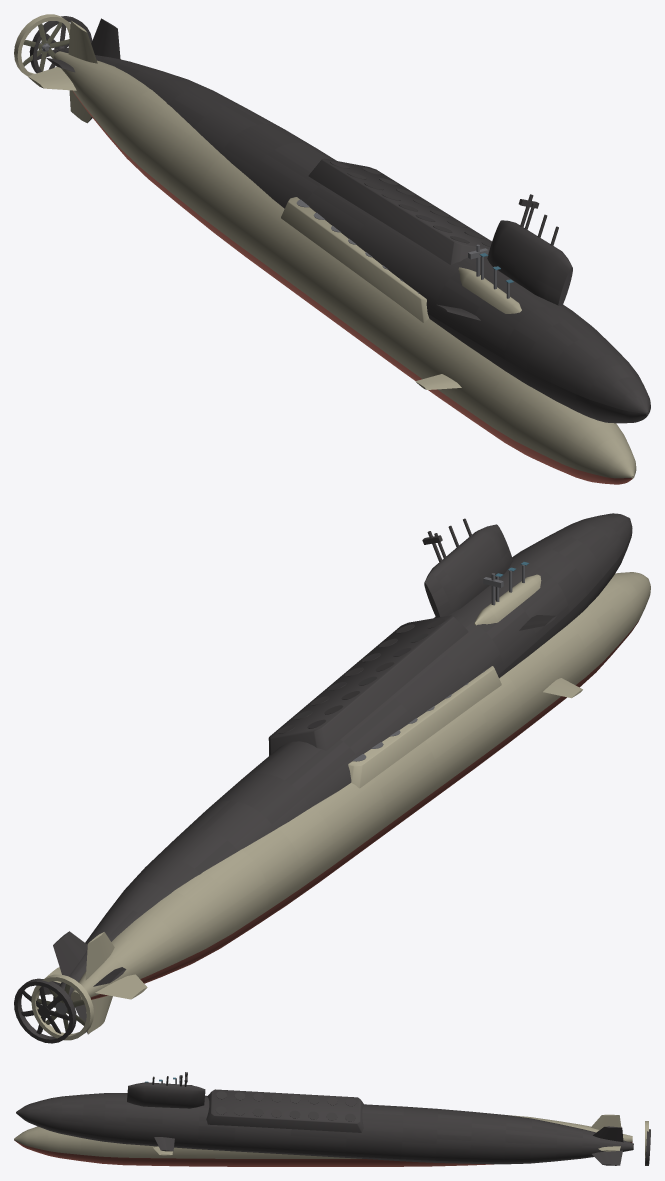
The model's file is nuclearSub__vanguard_class.glb.
3 renders of one model, top to bottom at view 1: azimuth 30°, elevation 25°; view 2: azimuth 150°, elevation 25°; view 3: azimuth 270°, elevation 25°, orthographic. The views are drawn at different scales.
Parts seen in each view (by area): view 1: Hull_Mesh, Wreck; view 2: Wreck, Hull_Mesh; view 3: Wreck, Hull_Mesh.
Boxes of the visible parts, <box> form: Hull_Mesh: <box>14,14,636,484</box>; Wreck: <box>29,16,650,423</box>; Wreck: <box>14,513,632,1043</box>; Hull_Mesh: <box>31,562,650,1040</box>; Wreck: <box>16,1072,650,1165</box>; Hull_Mesh: <box>14,1077,648,1166</box>.
Size of what is drawn, in the model's own units: 22.47 by 27.33 by 148.
